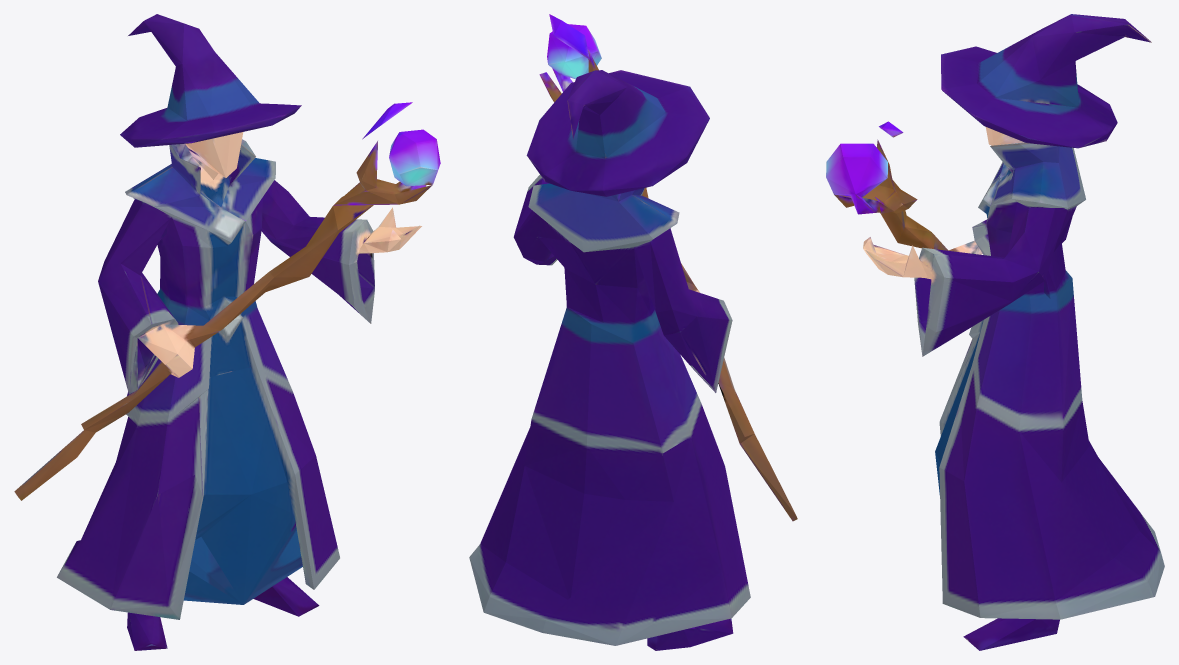
Rendered from mage-lite.glb.
3 views of the same model, side by side, from view 1: azimuth 30°, elevation 25°; view 2: azimuth 150°, elevation 25°; view 3: azimuth 270°, elevation 25° (orthographic). The views are drawn at different scales.
Parts seen in each view (by area): view 1: Mesh1.0; view 2: Mesh1.0; view 3: Mesh1.0.
Boxes of the visible parts, <box> form: Mesh1.0: <box>14,14,440,650</box>; Mesh1.0: <box>469,14,797,650</box>; Mesh1.0: <box>826,14,1164,650</box>.
Bounding box in the file's own units: 1.05 × 1.7 × 0.8826.
1 material, 1 textured.
